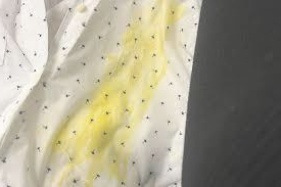mustard: (83, 59, 146, 159), (113, 7, 169, 84), (55, 104, 109, 161)
